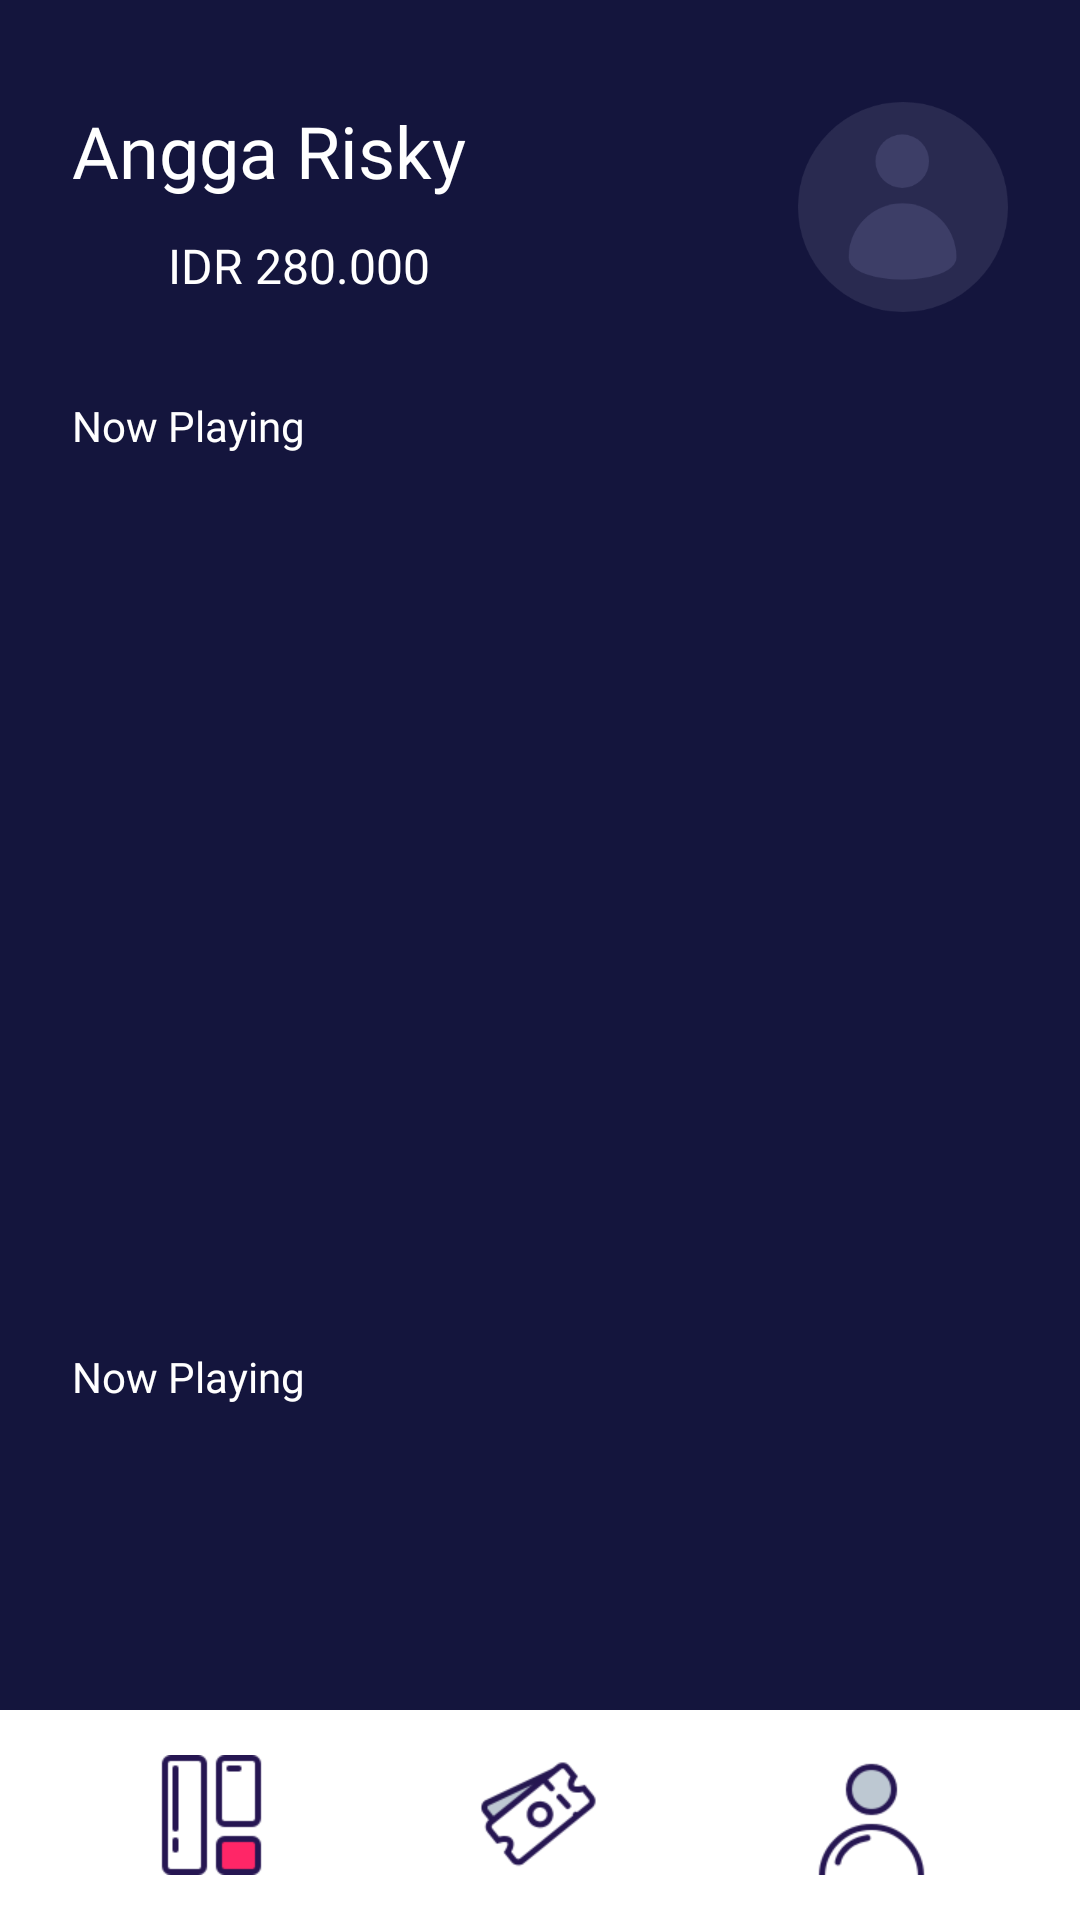

Icons on this 1080 x 1920 Android screen, each with the point to tap as [x,y]:
home: [211,1815]
profile: [871,1819]
tiket: [538,1814]
user pic: [902,207]
